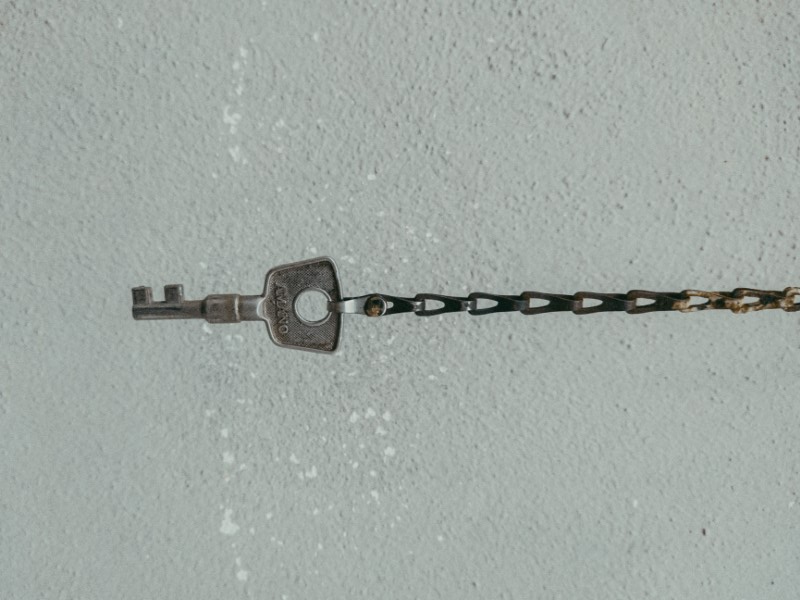key: (129, 245, 351, 356)
